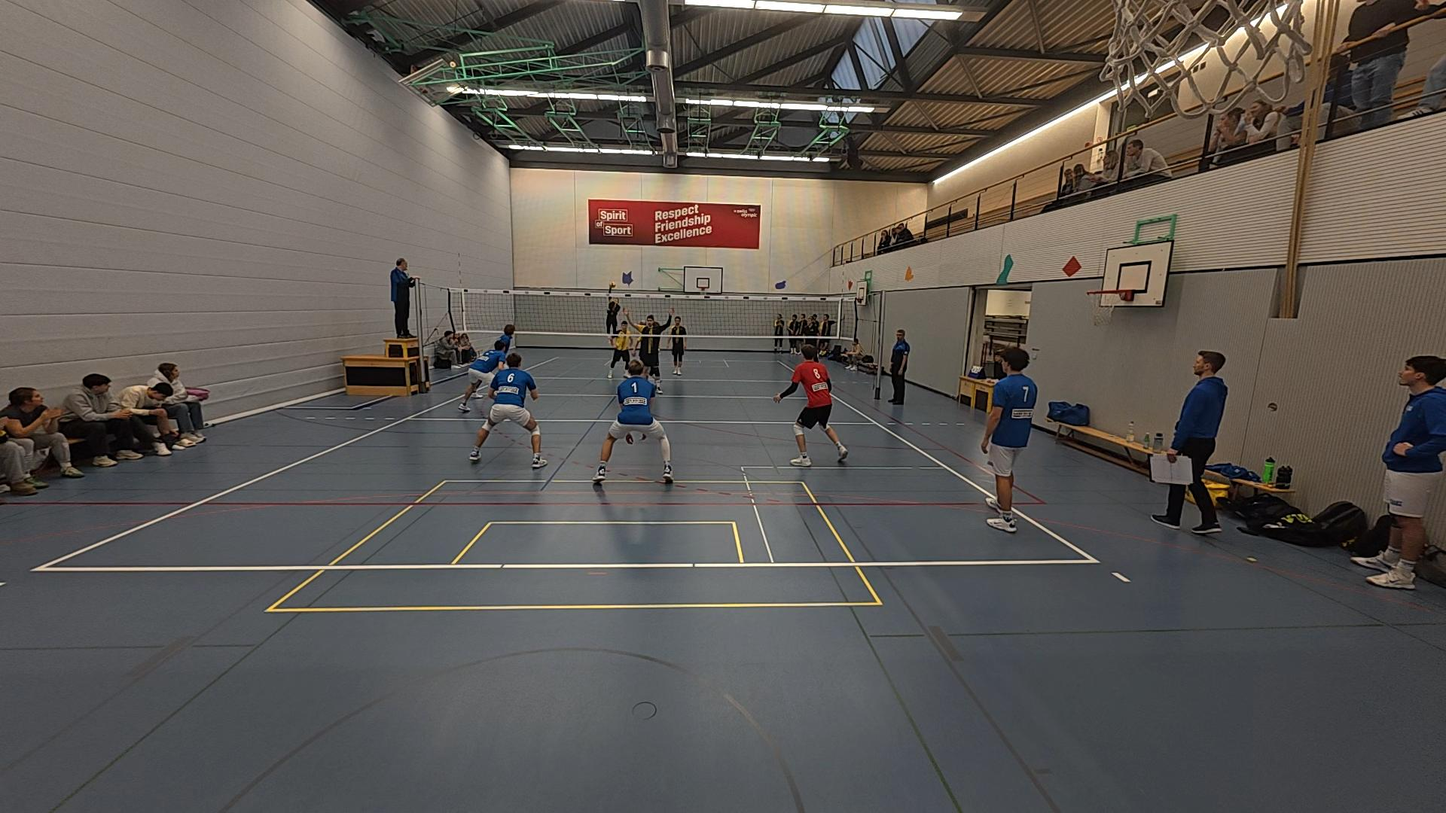battuta: (600, 282, 622, 341)
